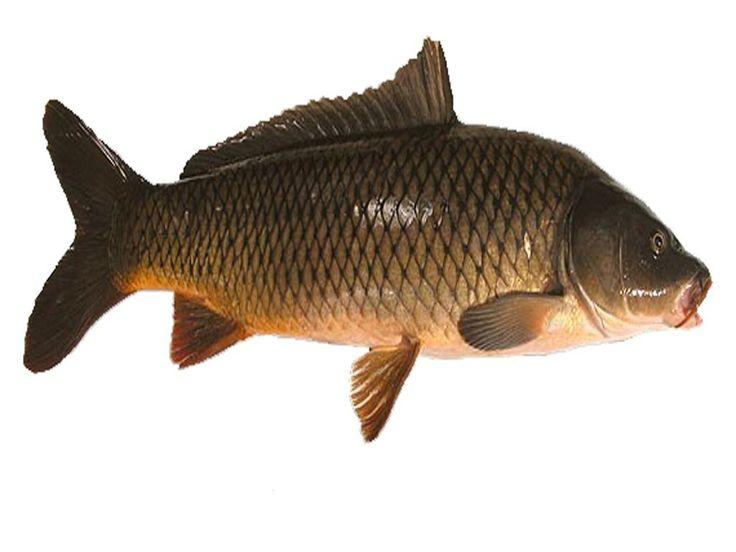Grass Carp: (26, 36, 716, 459)
